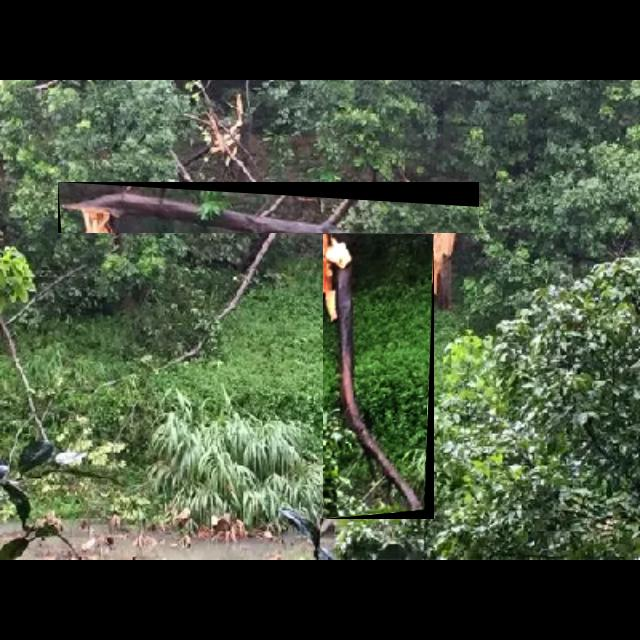Fallen Tree: (323, 234, 435, 520), (58, 182, 480, 234)
